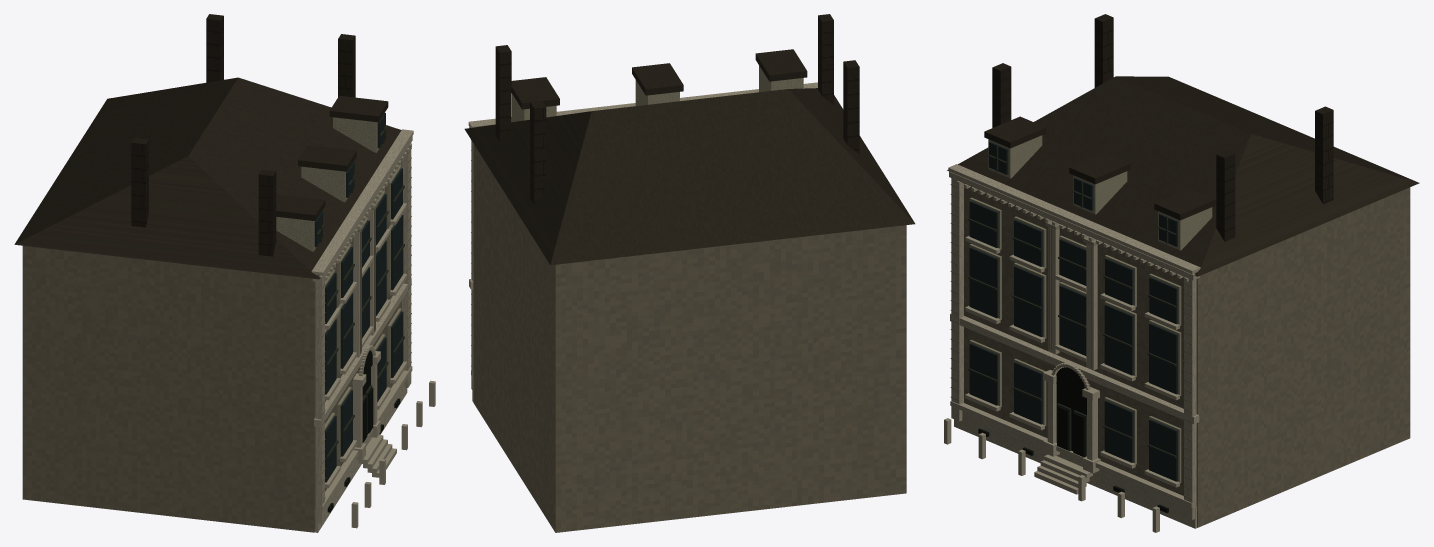
3 views of the same model, side by side, from view 1: azimuth 30°, elevation 25°; view 2: azimuth 150°, elevation 25°; view 3: azimuth 270°, elevation 25° (orthographic). The views are drawn at different scales.
Visible parts, largest first — view 1: herenhuis-boompjes58-0, herenhuis-boompjes58-1, herenhuis-boompjes58-4, herenhuis-boompjes58-5, herenhuis-boompjes58-7, herenhuis-boompjes58-2, herenhuis-boompjes58-6, herenhuis-boompjes58-3; view 2: herenhuis-boompjes58-0, herenhuis-boompjes58-1, herenhuis-boompjes58-7, herenhuis-boompjes58-4, herenhuis-boompjes58-2; view 3: herenhuis-boompjes58-0, herenhuis-boompjes58-1, herenhuis-boompjes58-4, herenhuis-boompjes58-5, herenhuis-boompjes58-2, herenhuis-boompjes58-7, herenhuis-boompjes58-3, herenhuis-boompjes58-6.
Part boxes in pixels (bbox=[...]): herenhuis-boompjes58-0: bbox=[22, 148, 411, 532]; herenhuis-boompjes58-1: bbox=[14, 77, 401, 279]; herenhuis-boompjes58-4: bbox=[311, 129, 435, 532]; herenhuis-boompjes58-5: bbox=[314, 113, 403, 482]; herenhuis-boompjes58-7: bbox=[131, 14, 355, 256]; herenhuis-boompjes58-2: bbox=[276, 117, 401, 459]; herenhuis-boompjes58-6: bbox=[316, 118, 404, 458]; herenhuis-boompjes58-3: bbox=[327, 350, 400, 512]; herenhuis-boompjes58-0: bbox=[471, 143, 906, 532]; herenhuis-boompjes58-1: bbox=[464, 49, 915, 265]; herenhuis-boompjes58-7: bbox=[495, 14, 859, 203]; herenhuis-boompjes58-4: bbox=[468, 82, 817, 401]; herenhuis-boompjes58-2: bbox=[512, 65, 803, 122]; herenhuis-boompjes58-0: bbox=[950, 183, 1410, 527]; herenhuis-boompjes58-1: bbox=[947, 76, 1419, 276]; herenhuis-boompjes58-4: bbox=[944, 164, 1200, 532]; herenhuis-boompjes58-5: bbox=[969, 142, 1177, 481]; herenhuis-boompjes58-2: bbox=[969, 135, 1212, 483]; herenhuis-boompjes58-7: bbox=[992, 14, 1333, 241]; herenhuis-boompjes58-3: bbox=[978, 367, 1168, 512]; herenhuis-boompjes58-6: bbox=[968, 146, 1176, 457].
Bounding box in the file's own units: 17.43 × 14.52 × 17.43.
Materials: 8 (8 with a texture image).
